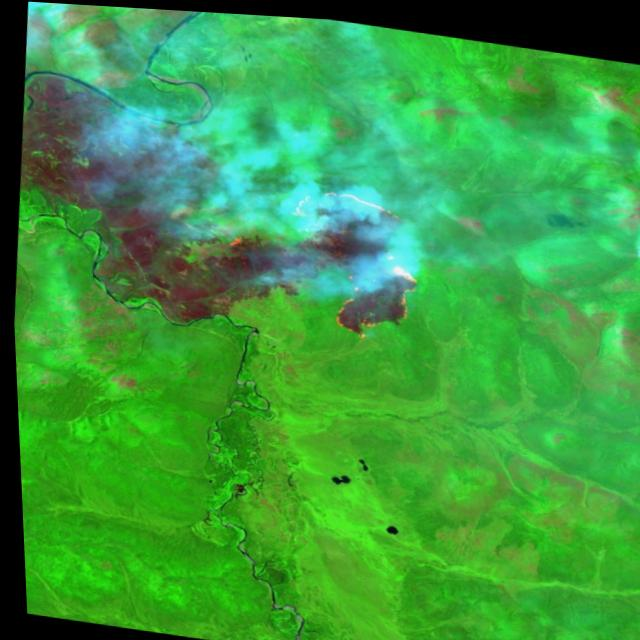fire: (272, 170, 430, 346), (211, 219, 249, 258)
